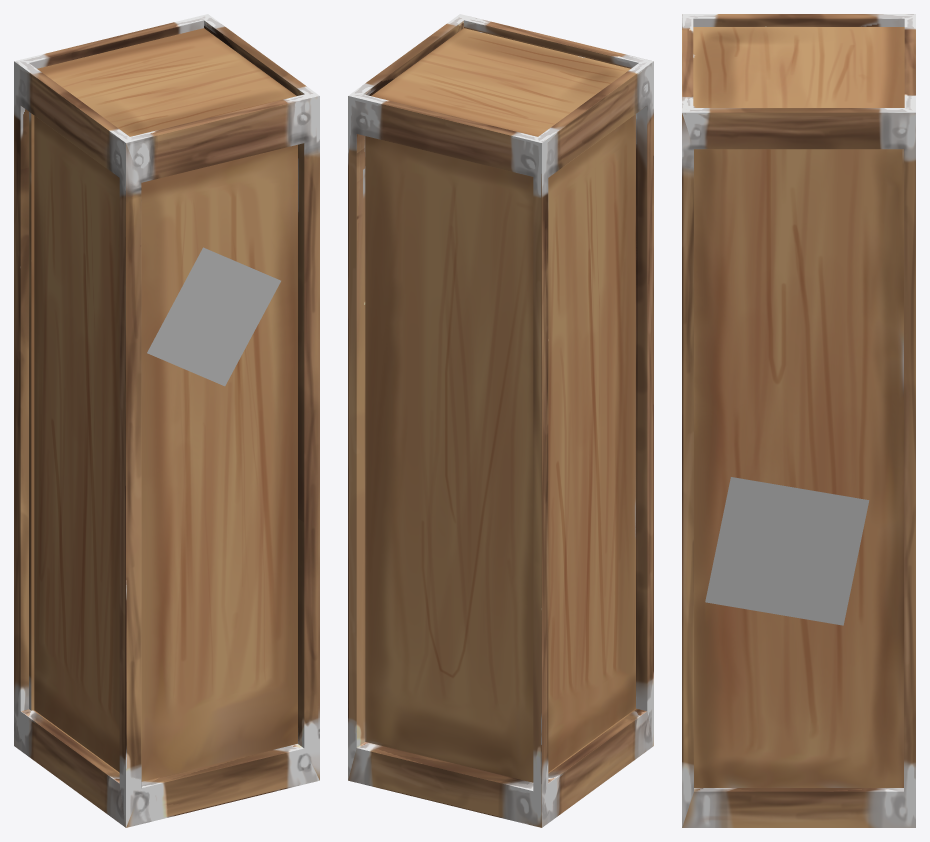
File: bigBox.fbx
3 renders of one model, left to right at view 1: azimuth 30°, elevation 25°; view 2: azimuth 150°, elevation 25°; view 3: azimuth 270°, elevation 25°, orthographic. The views are drawn at different scales.
Parts seen in each view (by area): view 1: caixa3; view 2: caixa3; view 3: caixa3.
Part boxes in pixels (x1,y1,x2,y2): caixa3: [14, 14, 319, 827]; caixa3: [348, 14, 653, 827]; caixa3: [682, 14, 915, 827].
Bounding box in the file's own units: 34.86 × 118 × 34.86.
